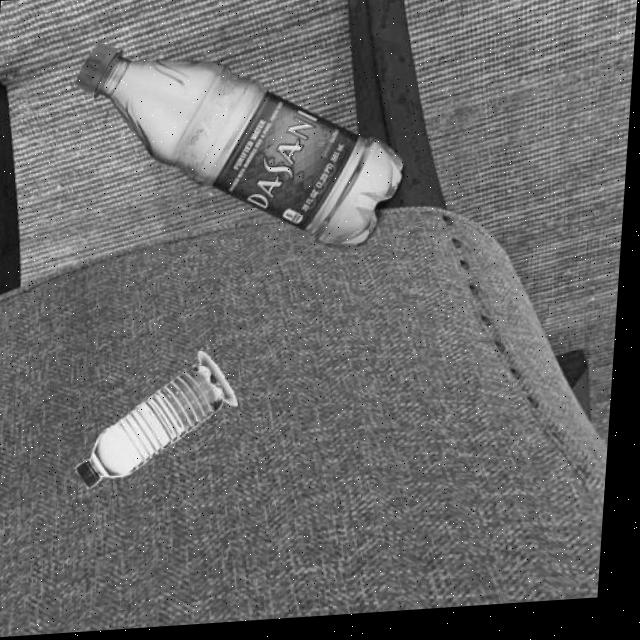bottle: (67, 27, 415, 271), (78, 349, 248, 493)
